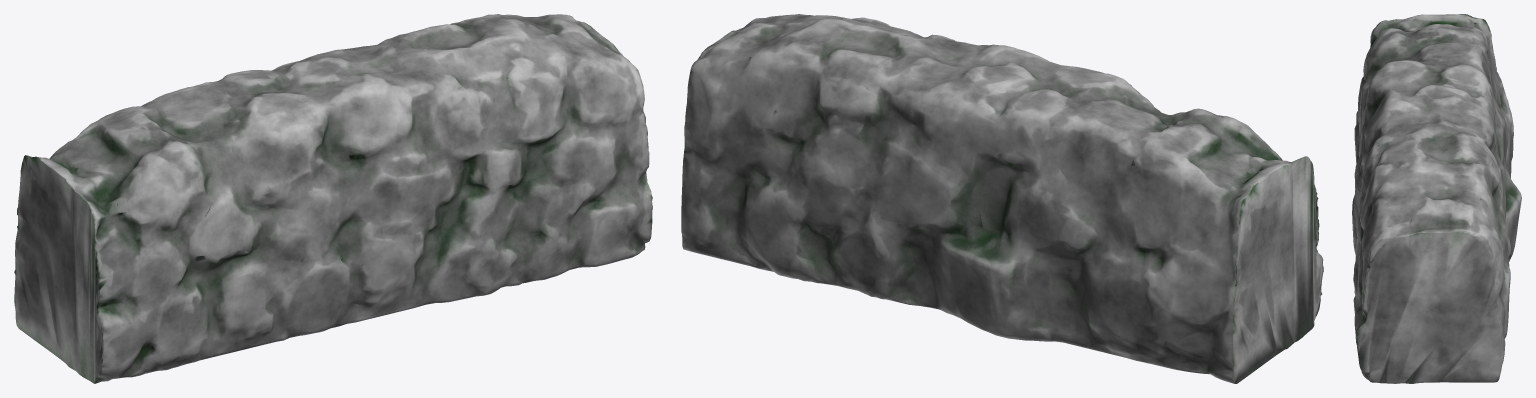
The model's file is stone_wall_seamless.fbx.
3 renders of one model, left to right at view 1: azimuth 30°, elevation 25°; view 2: azimuth 150°, elevation 25°; view 3: azimuth 270°, elevation 25°, orthographic. The views are drawn at different scales.
Parts seen in each view (by area): view 1: seamless_wall_LOD0; view 2: seamless_wall_LOD0; view 3: seamless_wall_LOD0.
Boxes of the visible parts, bbox=[...] form: seamless_wall_LOD0: bbox=[14, 14, 652, 383]; seamless_wall_LOD0: bbox=[681, 14, 1323, 383]; seamless_wall_LOD0: bbox=[1352, 14, 1521, 383].
Size of what is drawn, in the model's own units: 302 by 119 by 99.24.
